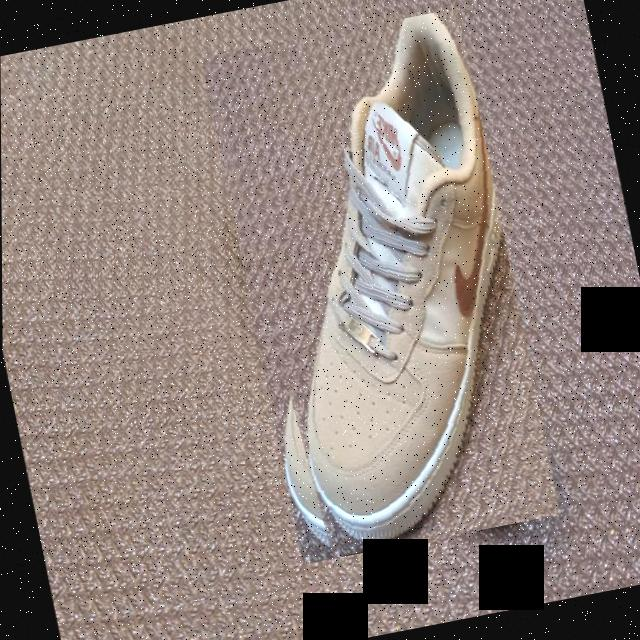shoe: (201, 8, 560, 564)
